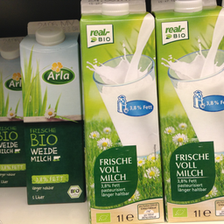milk: (80, 1, 166, 224), (150, 1, 224, 222), (20, 19, 87, 207), (1, 36, 27, 189)
